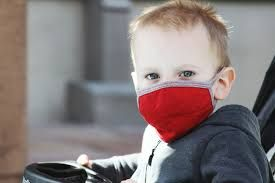with-mask: (127, 21, 235, 145)
